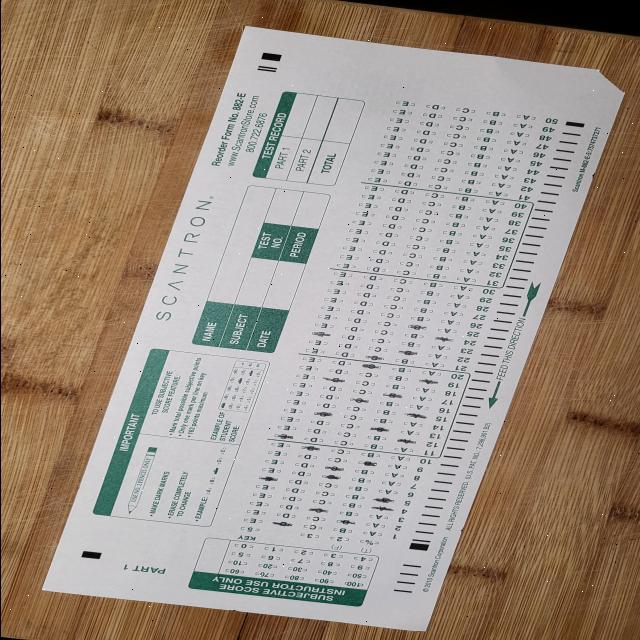scantron: (40, 26, 625, 632)
